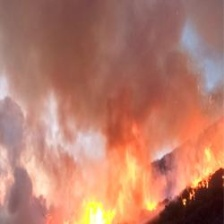fire: (57, 142, 224, 224)
